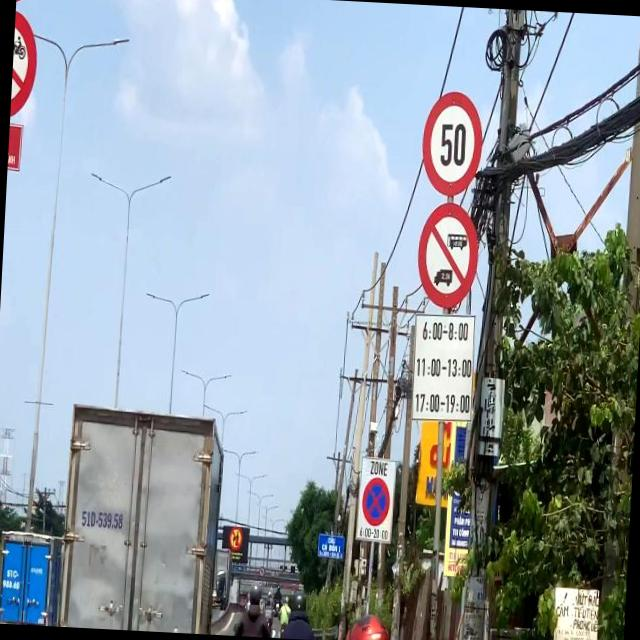P-127: (420, 90, 484, 197)
P-130: (362, 477, 390, 528)
